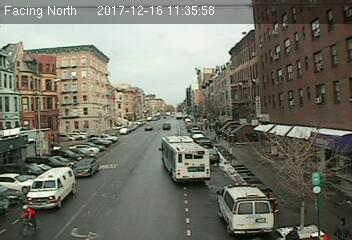bicycle: (18, 202, 44, 238)
bus: (160, 135, 210, 184)
car: (72, 157, 100, 176), (208, 149, 218, 161)
police: (217, 179, 277, 234)
truck: (26, 166, 76, 209)
